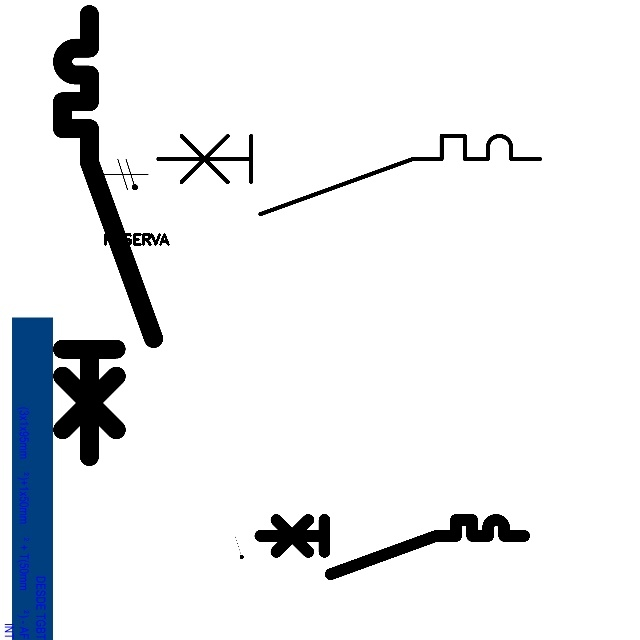interruptor_termomagnetico: (51, 3, 165, 468), (148, 126, 550, 224), (253, 513, 530, 581)
